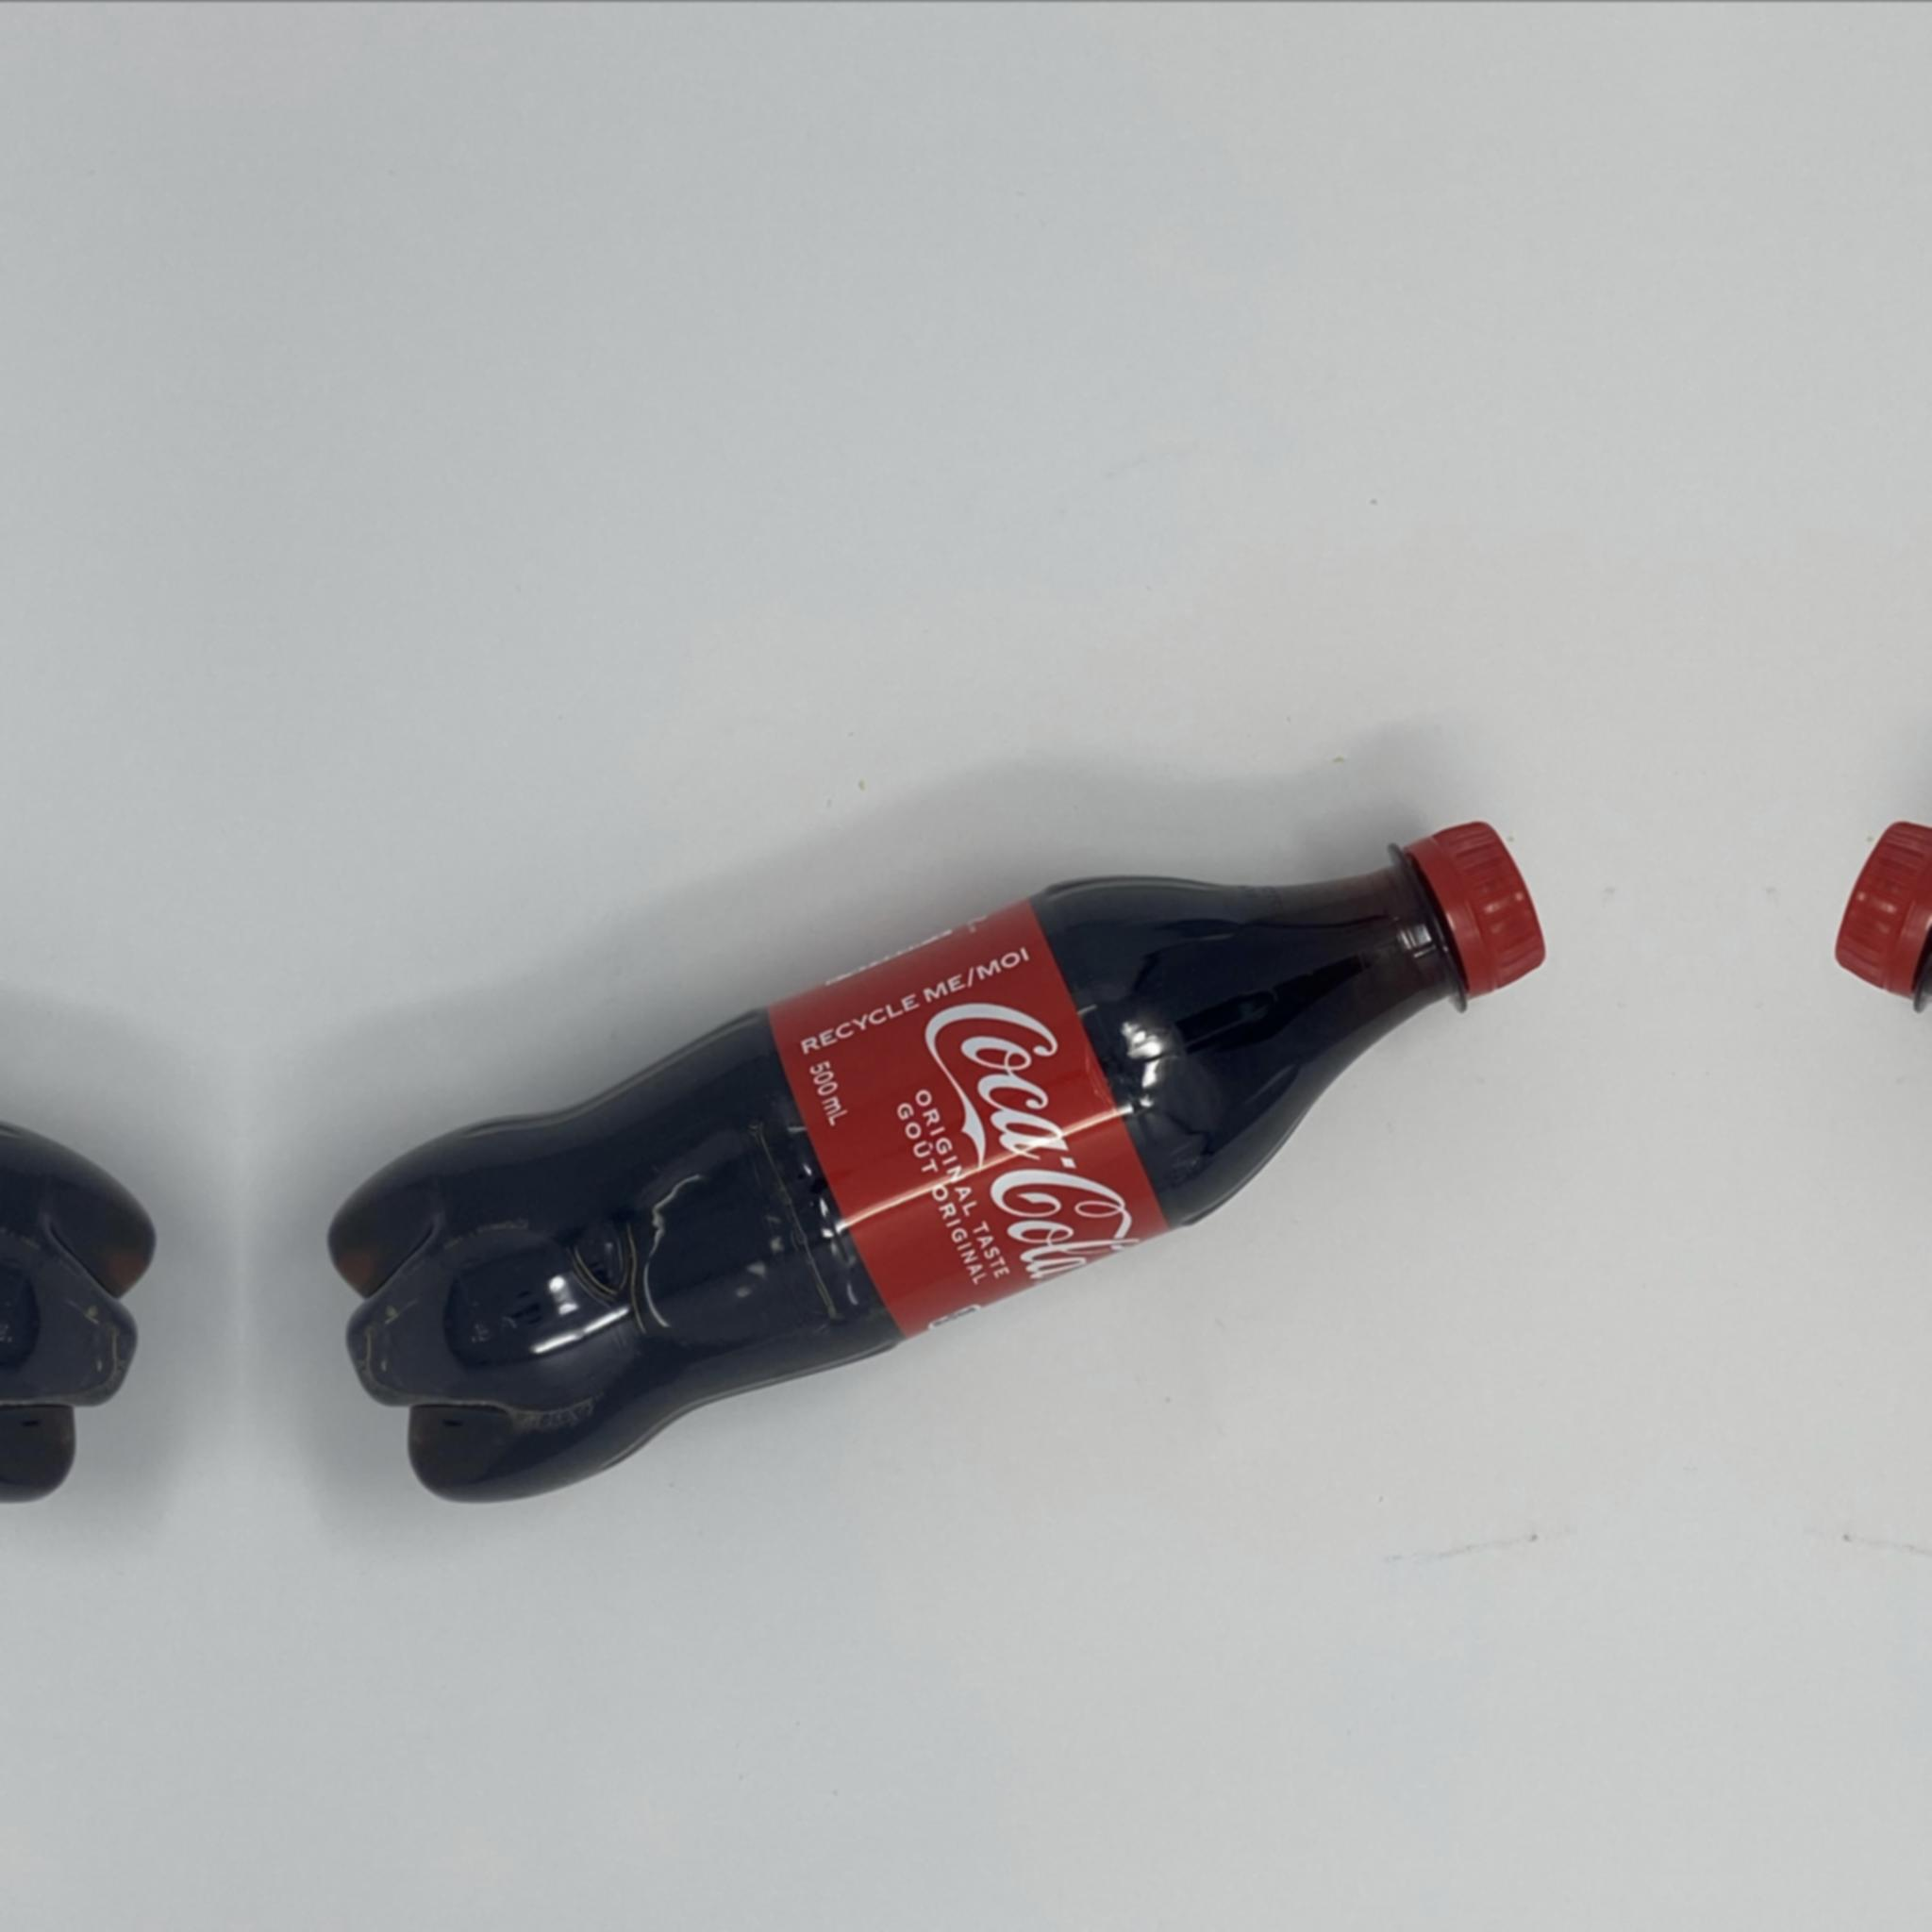PET: (327, 816, 1550, 1504)
cocacola: (327, 816, 1550, 1504)
plastic: (327, 816, 1550, 1504)
soft-drink: (327, 816, 1550, 1504)
